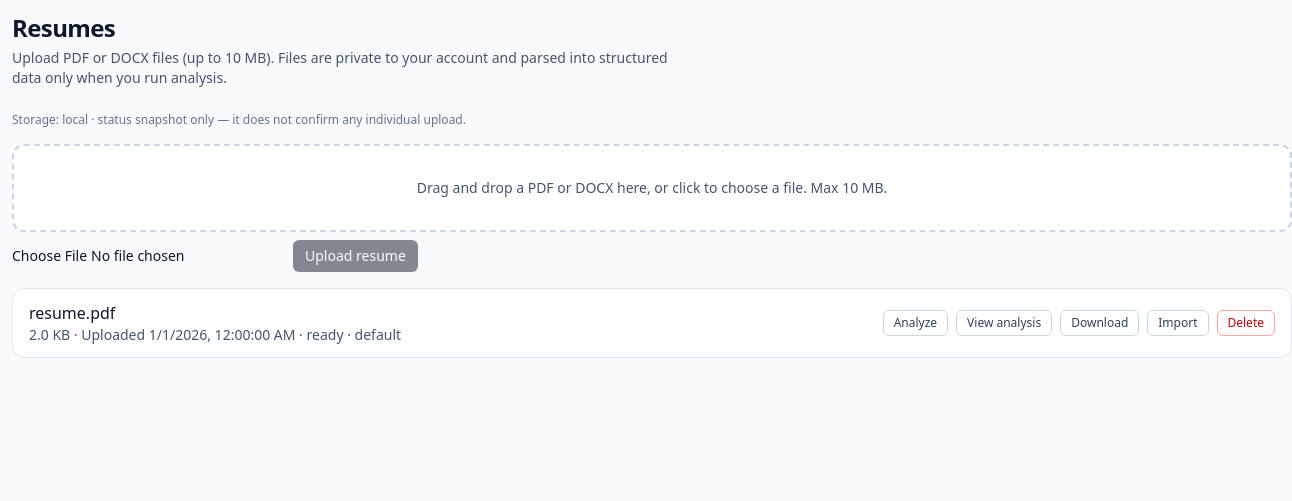
ResumesPage download, import, delete › deletes after confirmation and refreshes
Expected: the text "resume.pdf" is shown, top-left (29, 302), bottom-right (115, 324)
Click the button "Delete". click: (1246, 323)
box: top-left (1216, 310), bottom-right (1275, 336)
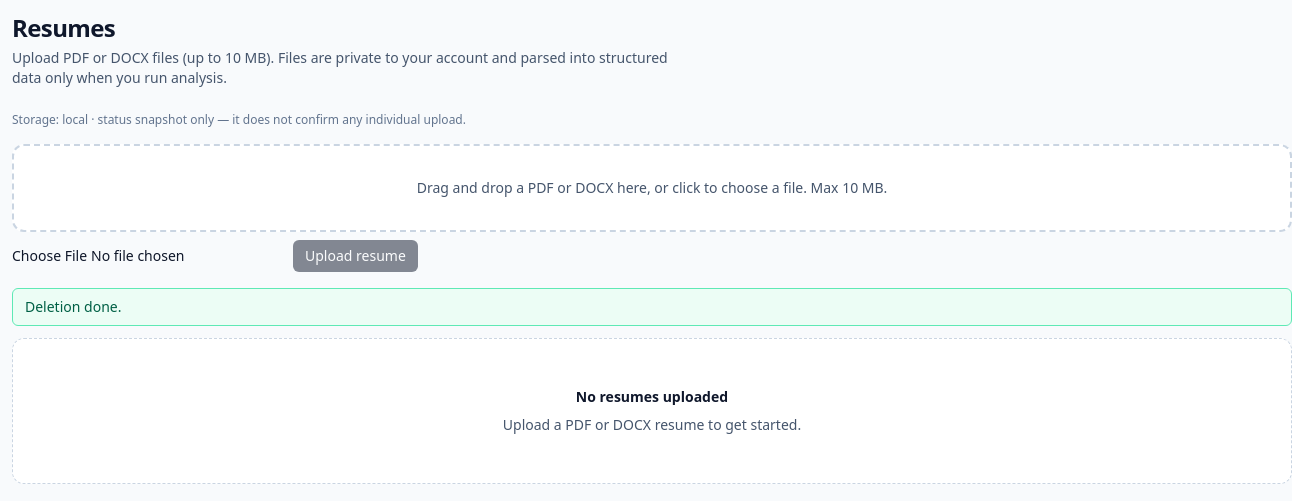
Now the text "Deletion done." is shown, box top-left (12, 288), bottom-right (1291, 326)
Now the heading "No resumes uploaded" is shown, box top-left (576, 387), bottom-right (728, 406)
